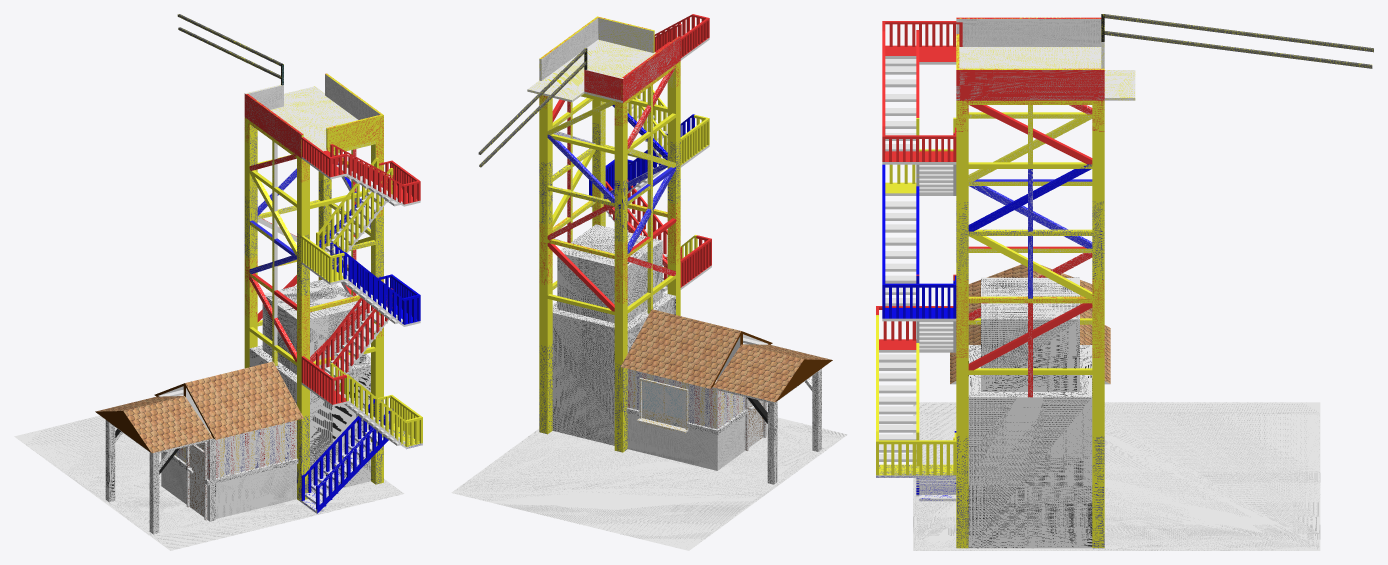
The model's file is bahan di ar fly.dae.
3 views of the same model, side by side, from view 1: azimuth 30°, elevation 25°; view 2: azimuth 150°, elevation 25°; view 3: azimuth 270°, elevation 25° (orthographic). The views are drawn at different scales.
Visible parts, largest first — view 1: group_0 (×5), group_232 (×17), SketchUp, group_1 (×5), group_247 (×2), group_251, group_249; view 2: group_0 (×5), SketchUp, group_232 (×20), group_1 (×6), group_247, group_246, group_244, group_250, group_248; view 3: SketchUp (×2), group_232 (×14), group_0 (×4), group_247, group_236, group_234, group_235, group_233, group_249, group_250.
Boxes of the visible parts, x1,y1,x2,y2 form: group_0 (×5): (95,279,370,493); group_232 (×17): (244,73,383,499); SketchUp: (14,415,404,550); group_1 (×5): (105,420,298,534); group_247 (×2): (272,141,277,365); group_251: (249,276,296,362); group_249: (250,170,296,255); group_0 (×5): (552,224,832,445); SketchUp: (451,417,847,550); group_232 (×20): (478,18,680,452); group_1 (×6): (627,368,821,484); group_247: (647,85,652,313); group_246: (547,243,614,311); group_244: (547,134,614,203); group_250: (627,167,675,253); group_248: (627,65,675,148); SketchUp (×2): (885,45,1320,550); group_232 (×14): (956,14,1373,548); group_0 (×4): (950,264,1110,548); group_247: (968,114,1092,324); group_236: (968,303,1092,370); group_234: (968,164,1091,231); group_235: (969,231,1092,298); group_233: (969,102,1092,164); group_249: (968,114,1092,181); group_250: (969,182,1092,248).
Bounding box in the file's own units: 230 × 317 × 355.
